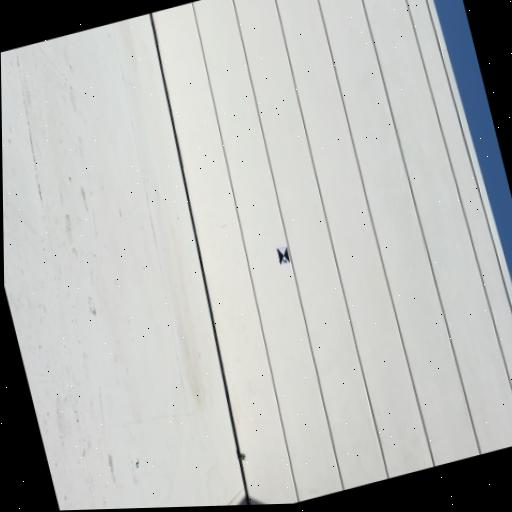target7: (277, 247, 290, 266)
